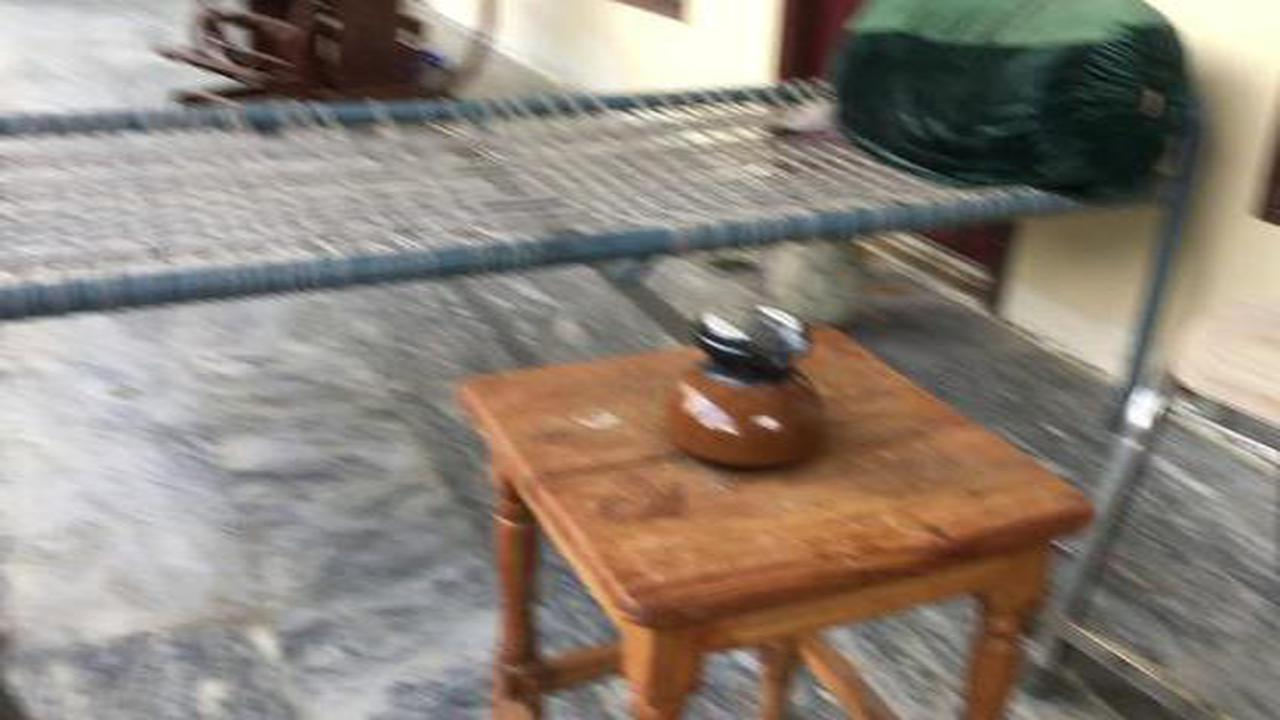insulator_pin: (637, 288, 868, 492)
